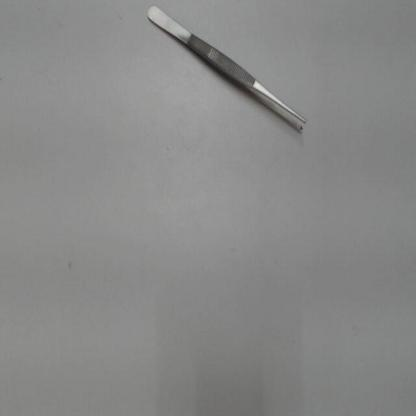Gillies Toothed Dissector: (138, 4, 315, 145)
